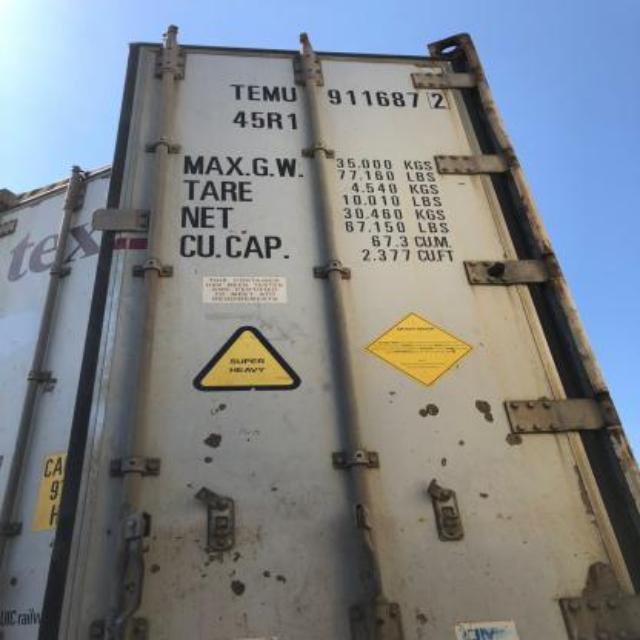1: (342, 83, 360, 109), (362, 81, 374, 113)
2: (424, 88, 454, 108)
6: (374, 86, 392, 110)
7: (407, 85, 423, 111)
8: (392, 84, 406, 110)
9: (328, 85, 342, 111)
E: (248, 74, 262, 104)
M: (264, 79, 280, 105)
T: (232, 78, 244, 104)
U: (278, 77, 298, 106)
